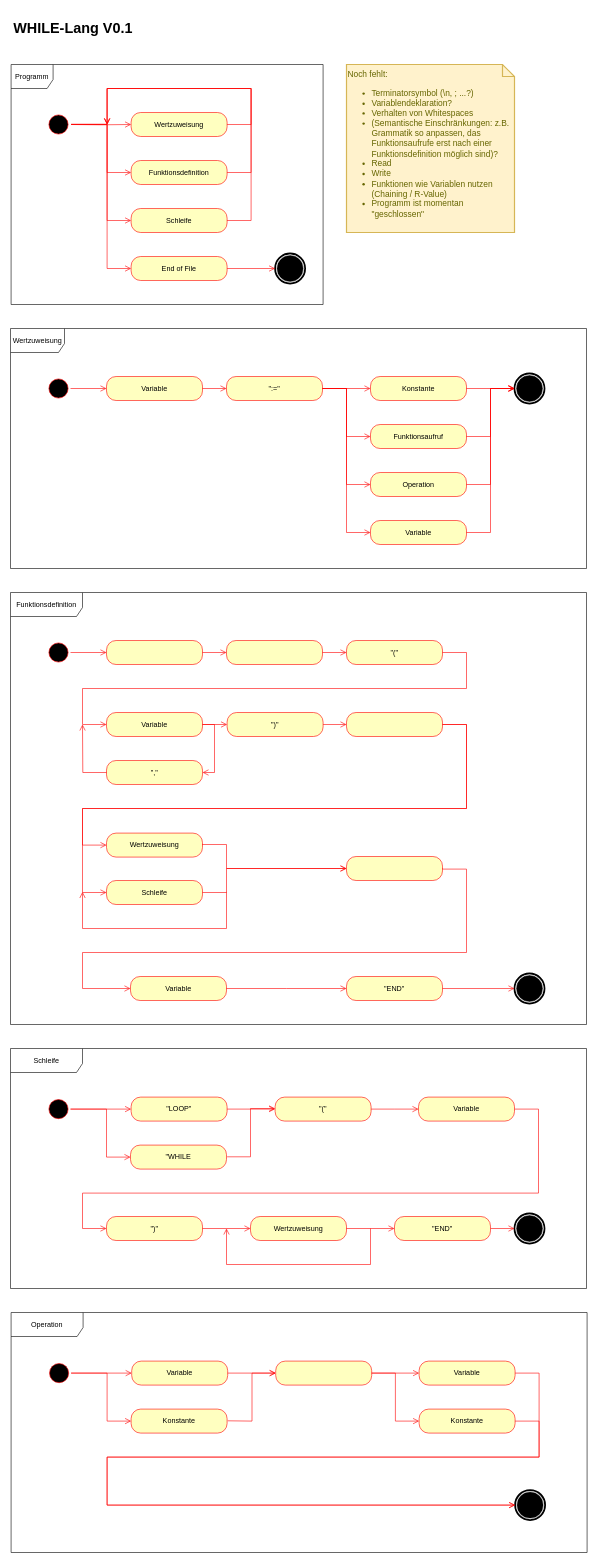
Some shapes in this 598 by 1563 pixel diagram are drawn without their labels. Each missing label, with the centre of its shape:
"BEGIN": point (394, 724)
"def": point (154, 652)
"return": point (394, 868)
Funktionsname: point (274, 652)
Operator: point (323, 1372)
